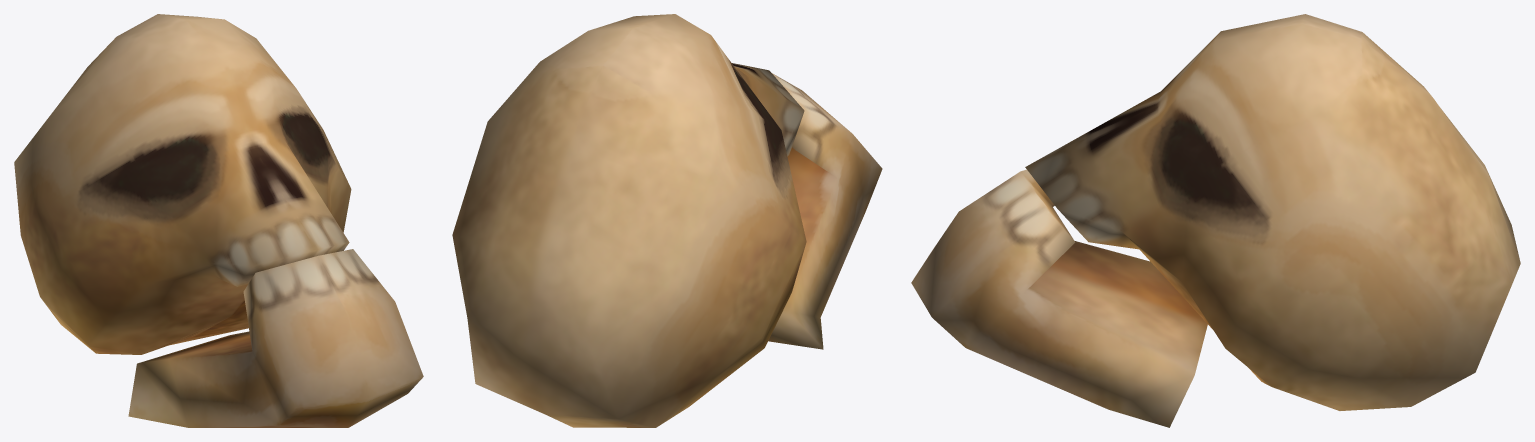
File: Bones_01.fbx
3 views of the same model, side by side, from view 1: azimuth 30°, elevation 25°; view 2: azimuth 150°, elevation 25°; view 3: azimuth 270°, elevation 25° (orthographic). The views are drawn at different scales.
Parts seen in each view (by area): view 1: Bones_01; view 2: Bones_01; view 3: Bones_01.
Boxes of the visible parts, bbox=[...] form: Bones_01: bbox=[14, 14, 423, 427]; Bones_01: bbox=[452, 14, 882, 427]; Bones_01: bbox=[911, 14, 1520, 427].
Bounding box in the file's own units: 33.2 × 38.26 × 58.26.
